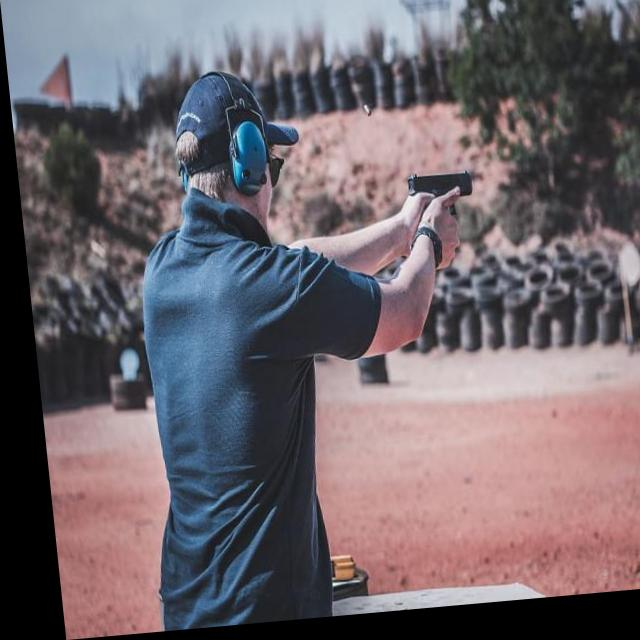handgun: (402, 174, 471, 241)
